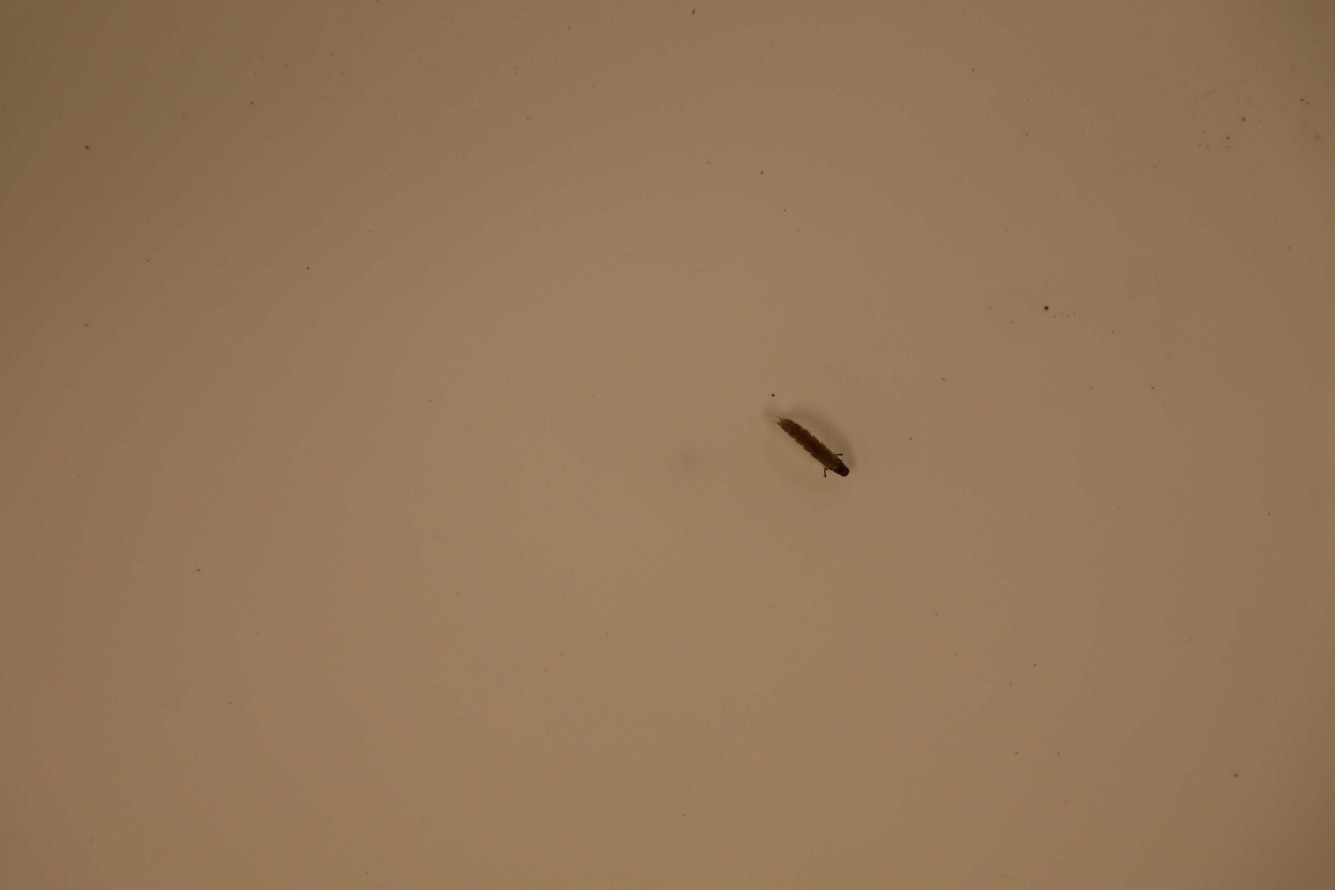Cadisfly: (771, 413, 854, 485)
